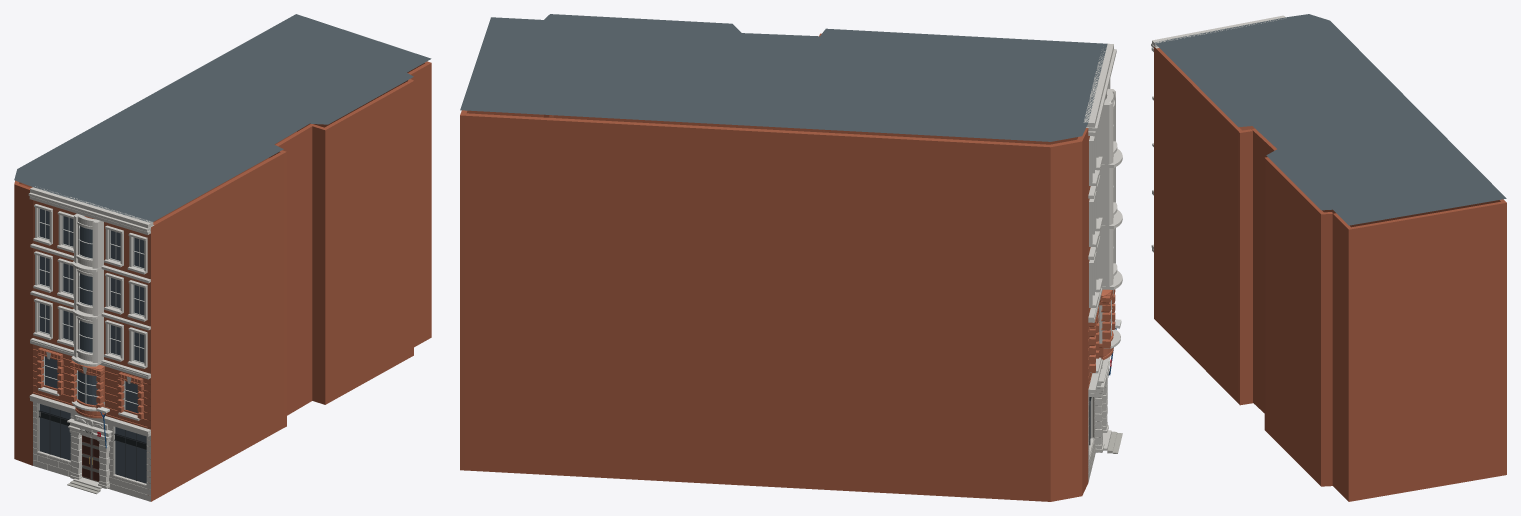
The model's file is ksw-exterior-f8ee72488d49.glb.
3 renders of one model, left to right at view 1: azimuth 30°, elevation 25°; view 2: azimuth 150°, elevation 25°; view 3: azimuth 270°, elevation 25°, orthographic. The views are drawn at different scales.
Parts seen in each view (by area): view 1: KSW.001; view 2: KSW.001; view 3: KSW.001.
Boxes of the visible parts, bbox=[...] form: KSW.001: bbox=[14, 14, 431, 501]; KSW.001: bbox=[460, 14, 1122, 501]; KSW.001: bbox=[1151, 14, 1506, 501].
Size of the model in its own units: 33.77 by 20.55 by 23.99.
